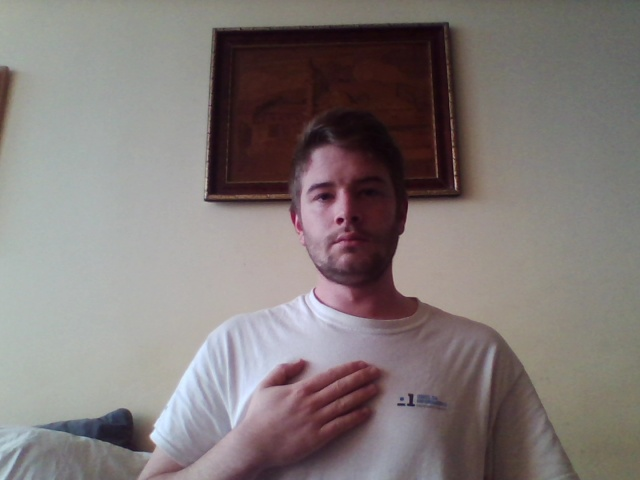molimte: (243, 354, 384, 467)
